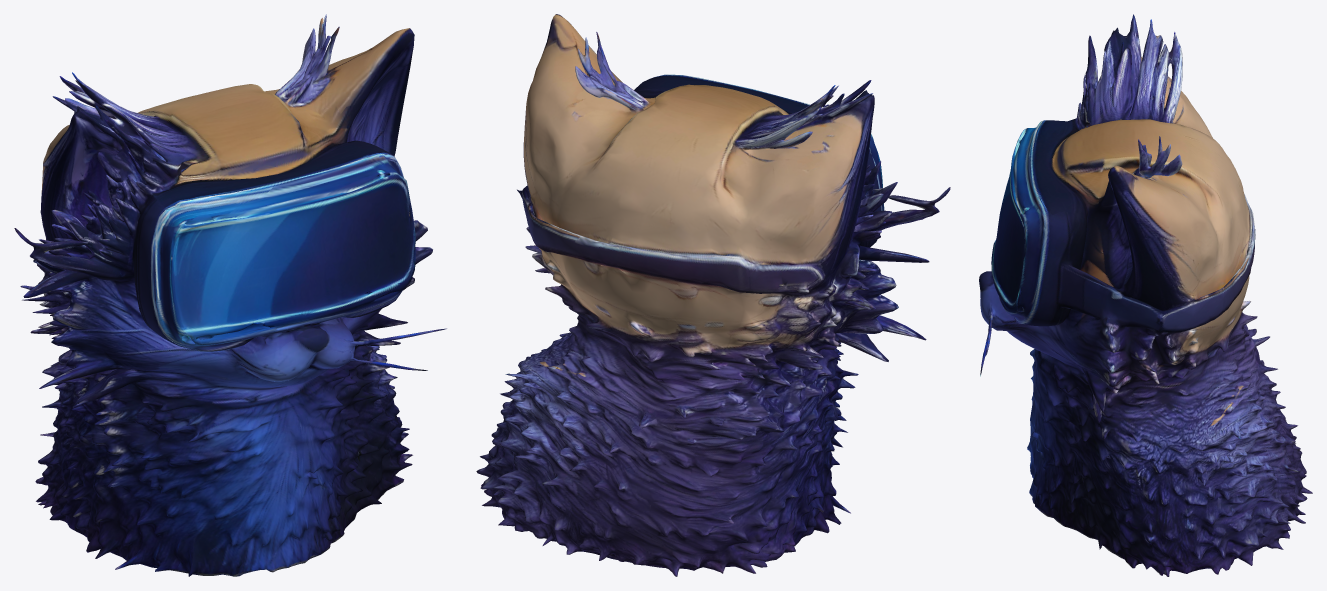
Rendered from cyberkitty.glb.
3 renders of one model, left to right at view 1: azimuth 30°, elevation 25°; view 2: azimuth 150°, elevation 25°; view 3: azimuth 270°, elevation 25°, orthographic. The views are drawn at different scales.
Visible parts, largest first — view 1: geometry_0; view 2: geometry_0; view 3: geometry_0.
Boxes of the visible parts, left/top/right/bottom form: geometry_0: left=14, top=14, right=446, bottom=576; geometry_0: left=476, top=14, right=950, bottom=576; geometry_0: left=979, top=14, right=1312, bottom=576.
Bounding box in the file's own units: 1.78 × 1.86 × 1.36.
1 material, 1 textured.
